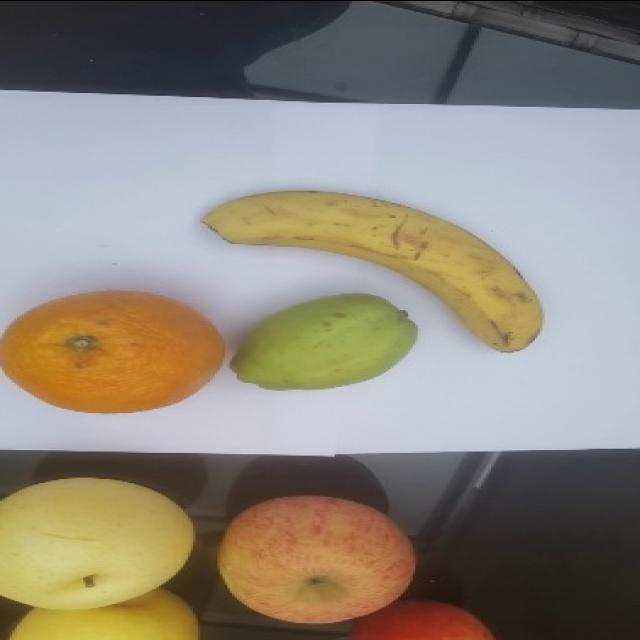Apple: (216, 493, 416, 624), (349, 598, 494, 639)
Banana: (200, 188, 542, 353)
Orange: (0, 288, 225, 413)
